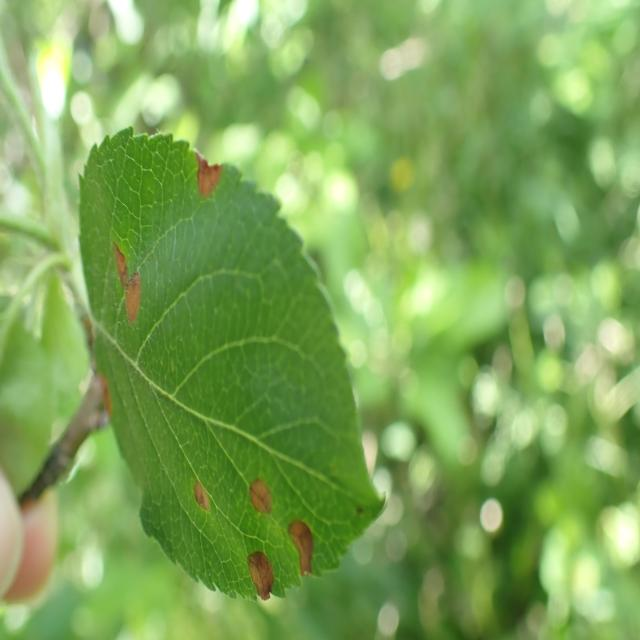Black Rot: (284, 495, 334, 605), (107, 224, 150, 339), (242, 533, 282, 615), (190, 137, 232, 213), (178, 463, 216, 520), (249, 472, 276, 536)
